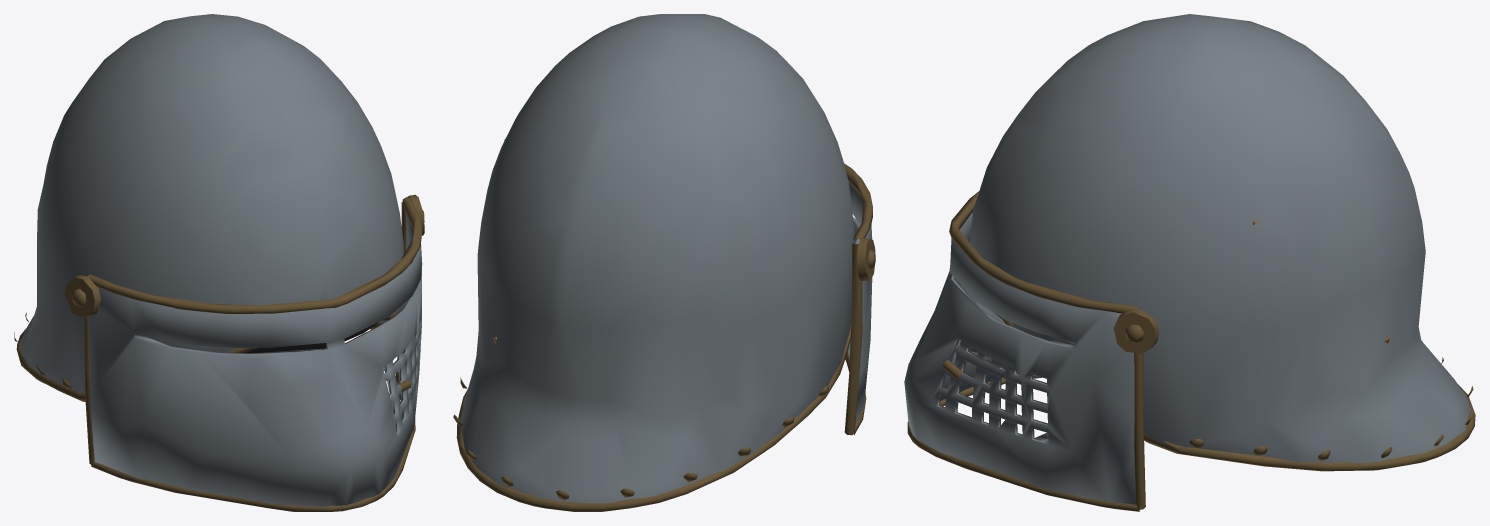
3 renders of one model, left to right at view 1: azimuth 30°, elevation 25°; view 2: azimuth 150°, elevation 25°; view 3: azimuth 270°, elevation 25°, orthographic. The views are drawn at different scales.
Parts seen in each view (by area): view 1: hammered plate, quilted linen lining; view 2: hammered plate; view 3: hammered plate.
Part boxes in pixels (box(x1,y1,x2,y2)): hammered plate: box(14, 14, 424, 511); quilted linen lining: box(244, 322, 378, 353); hammered plate: box(453, 14, 875, 511); hammered plate: box(904, 14, 1475, 511).
Bounding box in the file's own units: 0.2493 × 0.259 × 0.3301.
